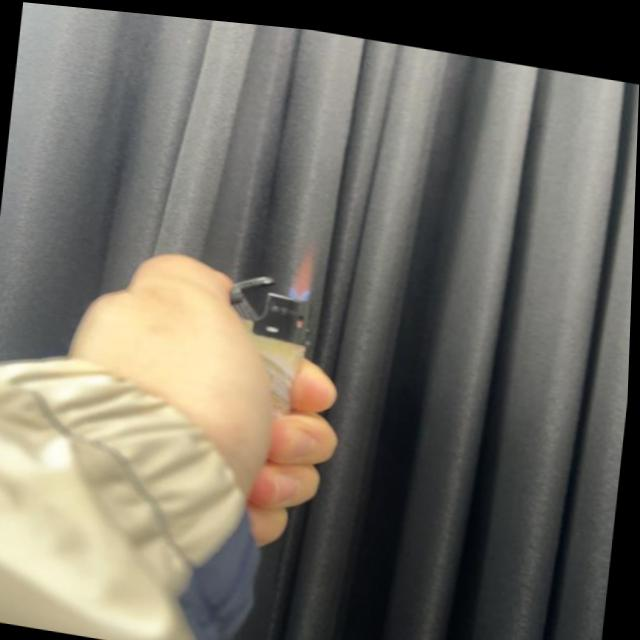Fire: (286, 225, 322, 296)
